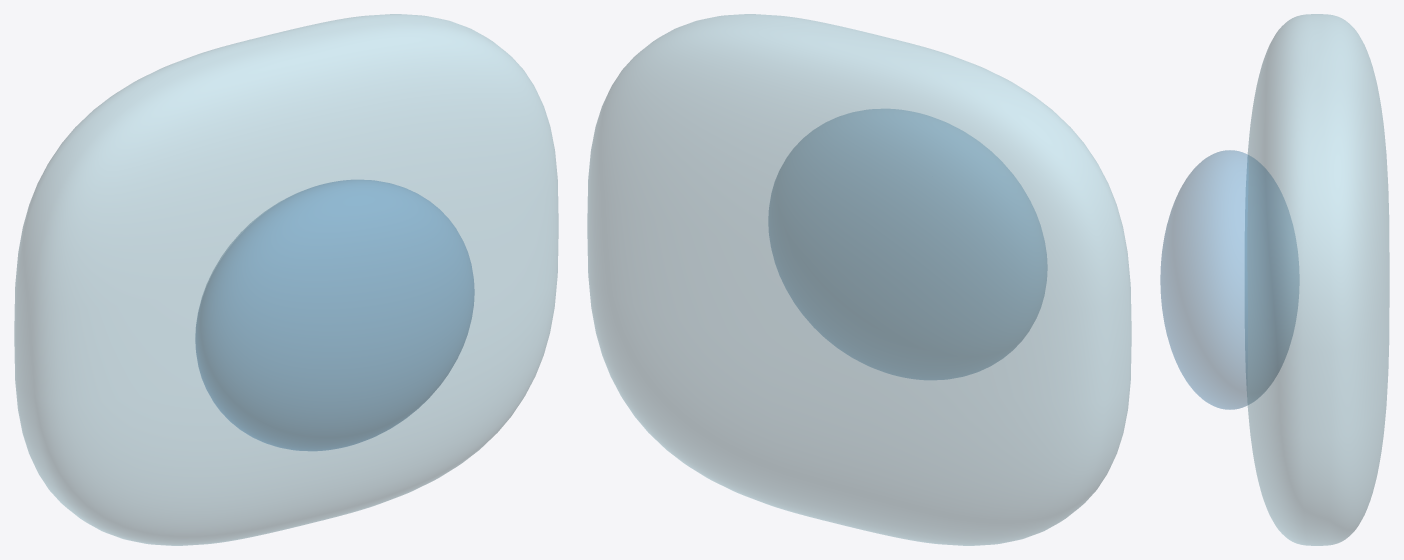
The picture shows the model from 3 angles, left to right: view 1: azimuth 30°, elevation 25°; view 2: azimuth 150°, elevation 25°; view 3: azimuth 270°, elevation 25°; orthographic projection. The views are drawn at different scales.
Parts seen in each view (by area): view 1: outer-bed, inner-dome; view 2: outer-bed, inner-dome; view 3: outer-bed, inner-dome.
Part boxes in pixels (x1=…): outer-bed: x1=14, y1=14, x2=558, y2=545; inner-dome: x1=195, y1=180, x2=474, y2=450; outer-bed: x1=587, y1=14, x2=1131, y2=545; inner-dome: x1=768, y1=109, x2=1047, y2=379; outer-bed: x1=1245, y1=14, x2=1389, y2=545; inner-dome: x1=1160, y1=150, x2=1299, y2=409.
Bounding box in the file's own units: 1.88 × 1.64 × 0.79.
